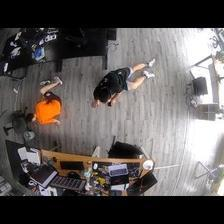fall: (90, 60, 158, 108), (26, 75, 67, 127)
